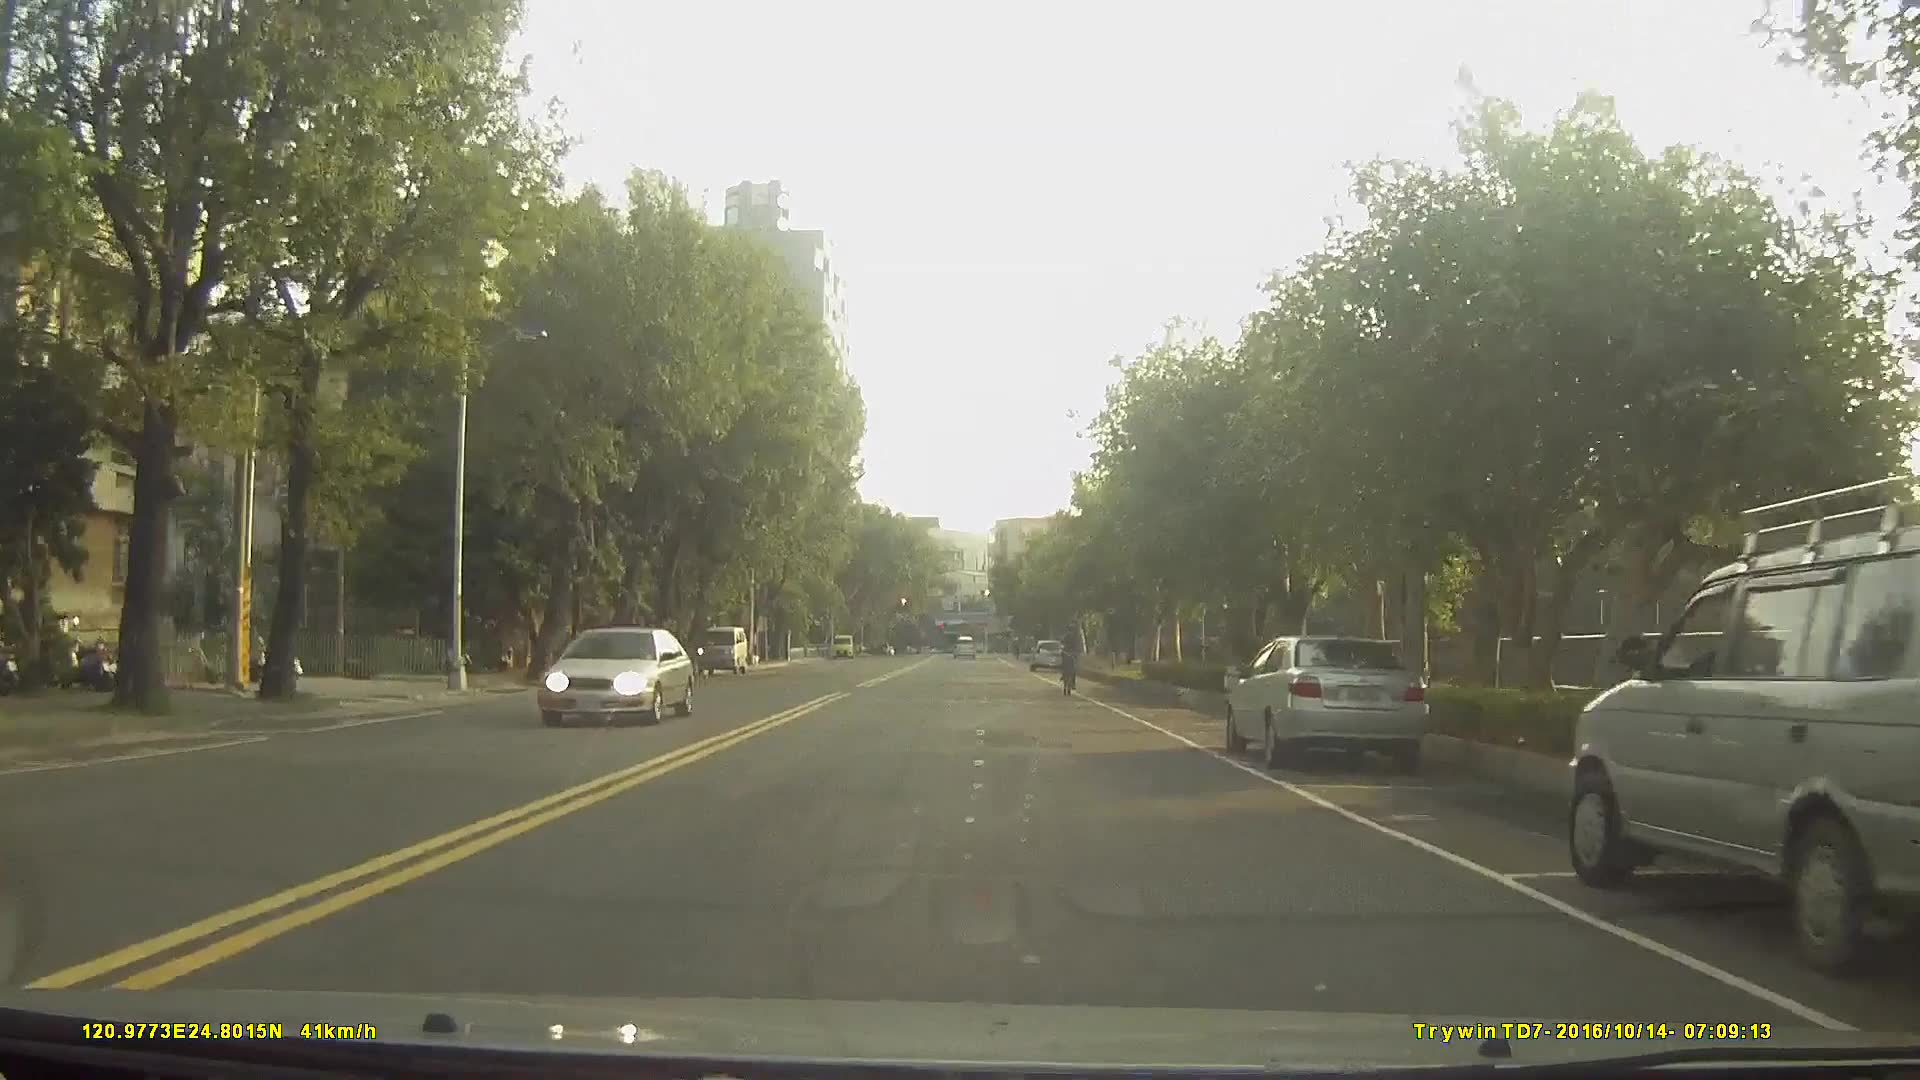rider: (1058, 619, 1085, 702)
vehicle: (1565, 526, 1920, 985), (1225, 635, 1432, 771), (537, 625, 696, 730), (612, 637, 675, 688), (696, 623, 747, 676), (1028, 637, 1067, 674), (952, 635, 979, 663)
